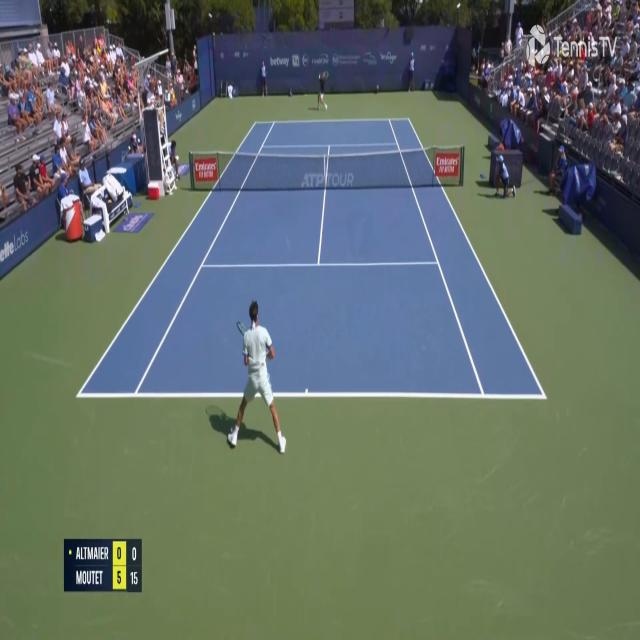tennis-player: (225, 295, 292, 461), (315, 70, 330, 110)
